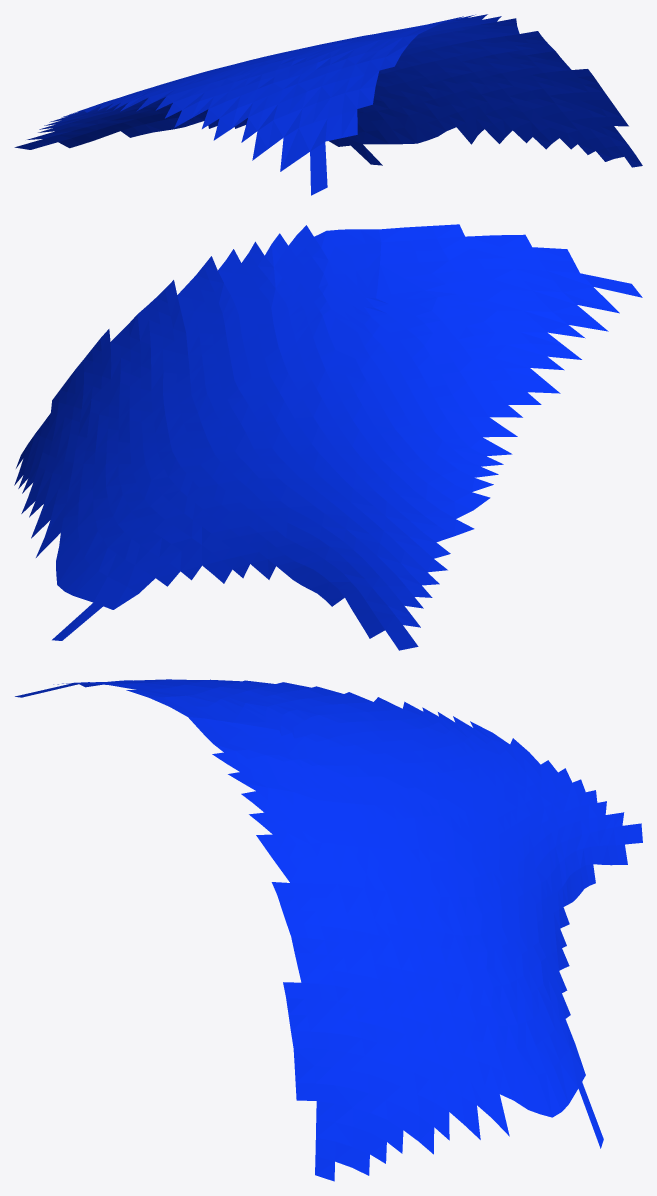
File: Sph_inv_2_Remeshed.obj
3 renders of one model, top to bottom at view 1: azimuth 30°, elevation 25°; view 2: azimuth 150°, elevation 25°; view 3: azimuth 270°, elevation 25°, orthographic. The views are drawn at different scales.
Size of the model in its own units: 1.06 by 0.5828 by 0.9413.
